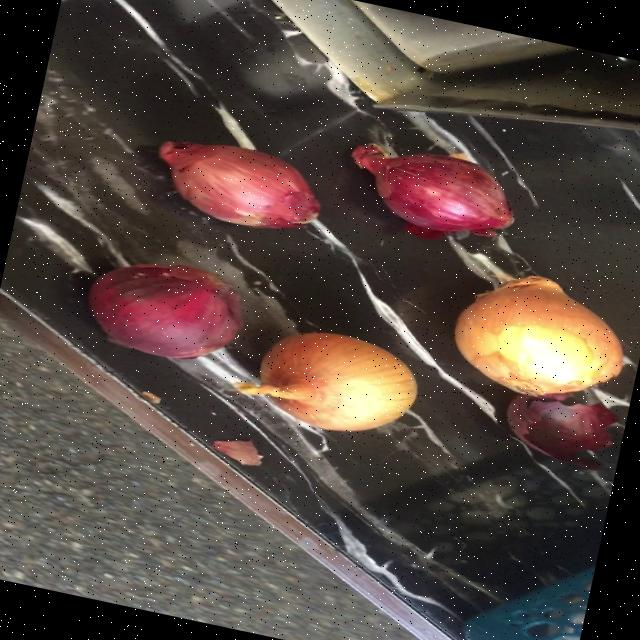Onion: (454, 276, 623, 396), (236, 332, 417, 431), (351, 143, 512, 238), (87, 264, 240, 358), (158, 140, 319, 227)
